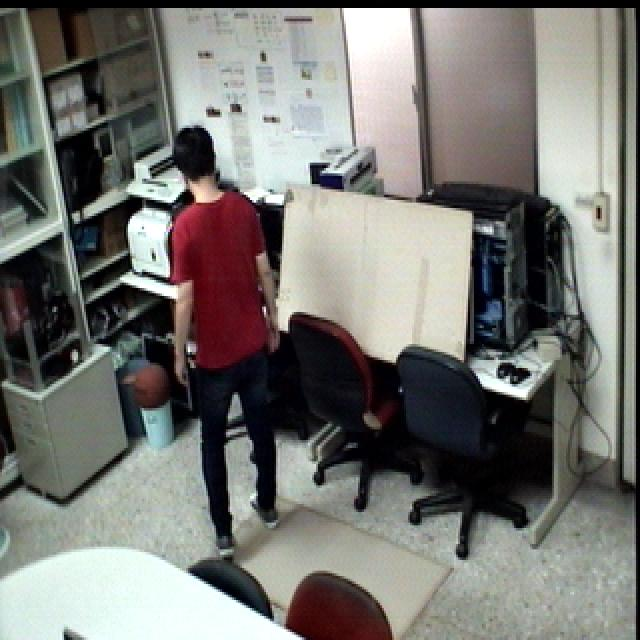stand: (149, 109, 297, 575)
